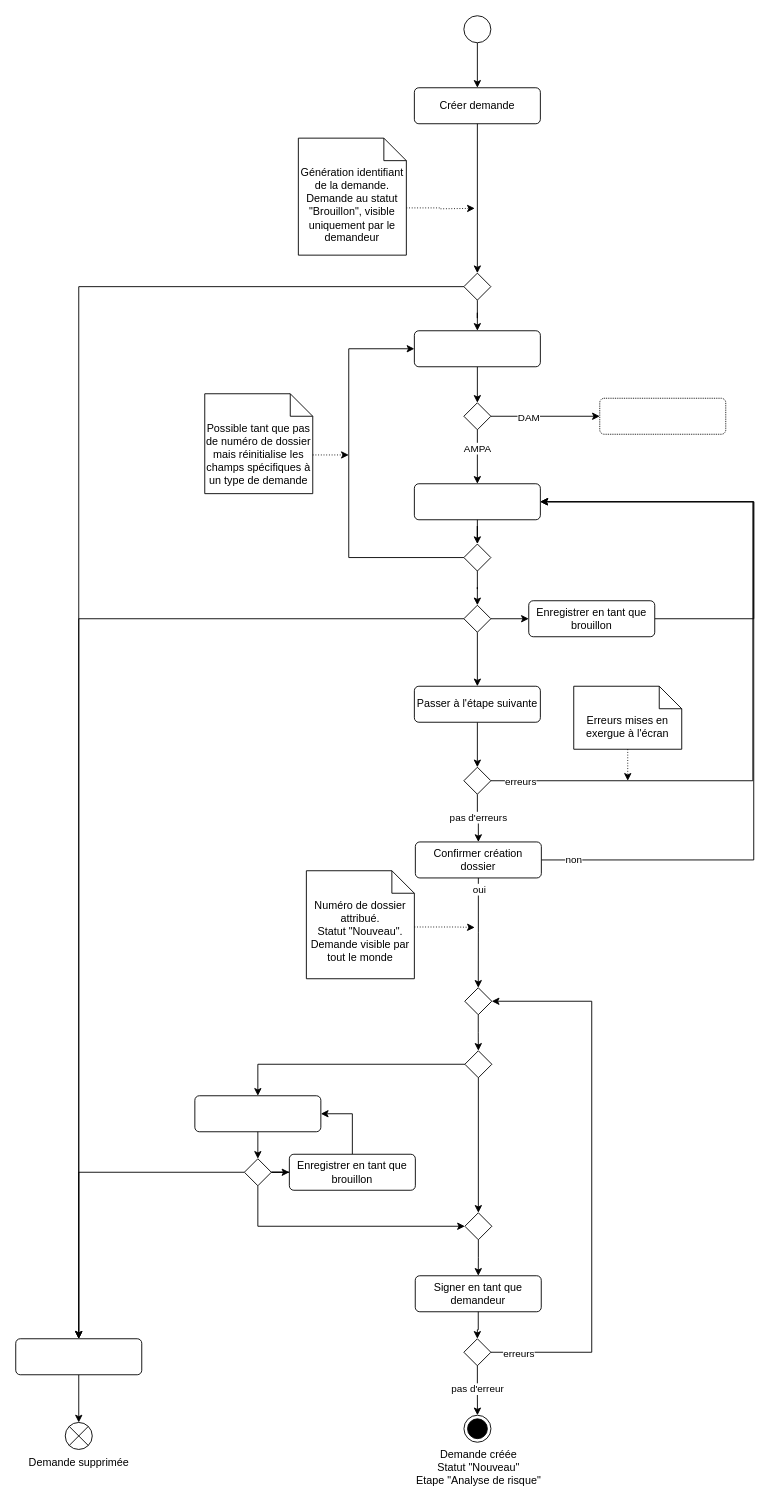
Some shapes in this 777 by 1510 pixel diagram are drawn without their labels. The centre of each missing label's shape, as x and y in pixels:
"... DAM ..." goes at (x=662, y=415).
"Annuler" goes at (x=78, y=1356).
"Choisir procédure" goes at (x=476, y=348).
"Modifier formulaire" goes at (x=257, y=1113).
"Remplir formulaire" goes at (x=476, y=501).
